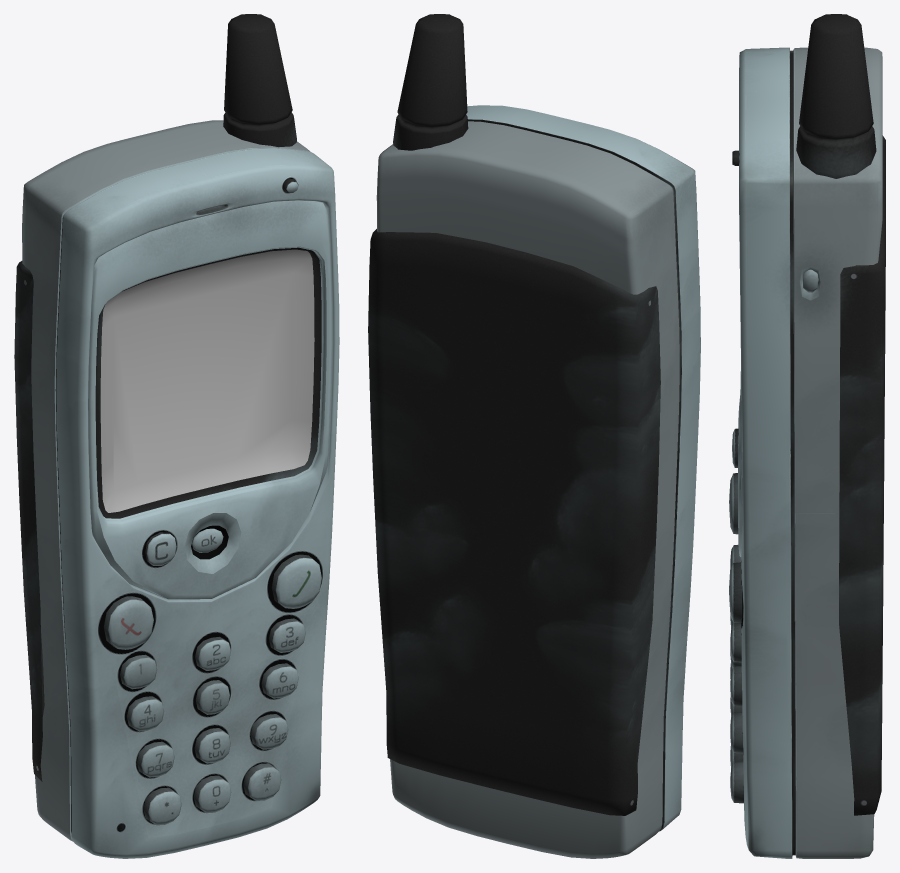
The model's file is cellphone.glb.
The picture shows the model from 3 angles, left to right: view 1: azimuth 30°, elevation 25°; view 2: azimuth 150°, elevation 25°; view 3: azimuth 270°, elevation 25°; orthographic projection. The views are drawn at different scales.
Visible parts, largest first — view 1: Cellphone_0; view 2: Cellphone_0; view 3: Cellphone_0.
Boxes of the visible parts, x1,y1,x2,y2 form: Cellphone_0: (14, 14, 339, 858); Cellphone_0: (368, 14, 700, 858); Cellphone_0: (729, 14, 885, 858).
Size of the model in its own units: 0.3628 by 1 by 0.1693.
2 materials, 2 textured.
